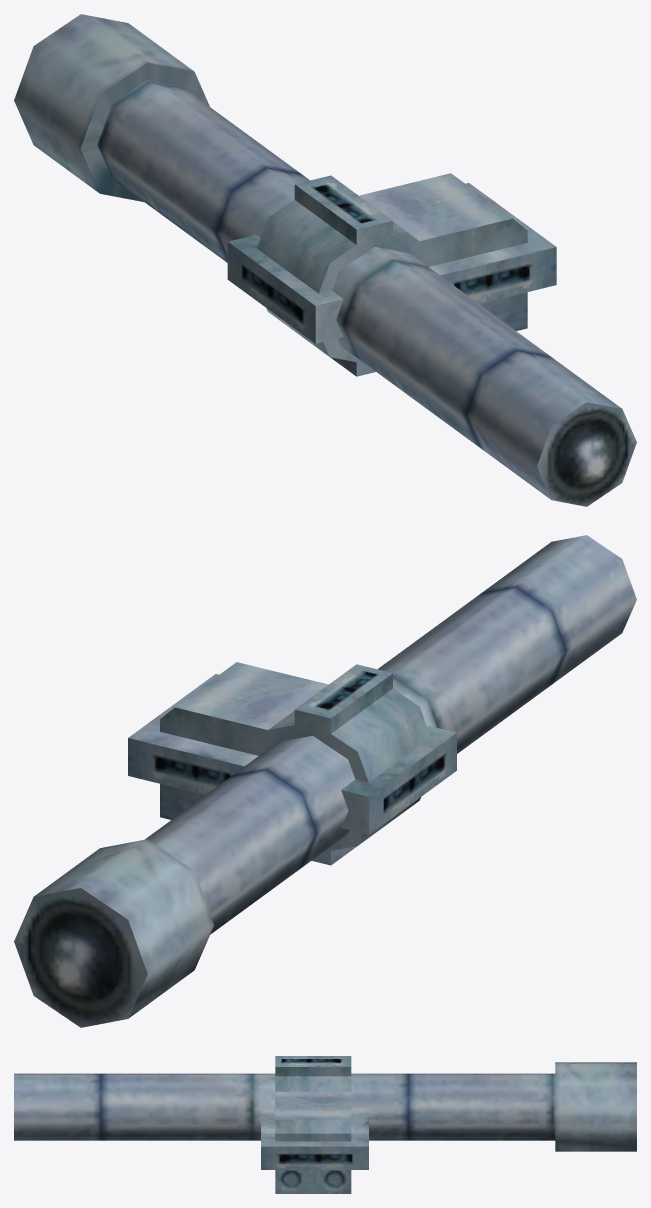
The model's file is wp_scope_de10_l0.fbx.
3 renders of one model, top to bottom at view 1: azimuth 30°, elevation 25°; view 2: azimuth 150°, elevation 25°; view 3: azimuth 270°, elevation 25°, orthographic. The views are drawn at different scales.
Visible parts, largest first — view 1: mesh_node; view 2: mesh_node; view 3: mesh_node.
Boxes of the visible parts, box(x1,y1,x2,y2) form: mesh_node: box(14, 14, 636, 506); mesh_node: box(14, 535, 636, 1027); mesh_node: box(14, 1056, 636, 1193).
Size of the model in its own units: 0.0537 by 0.0313 by 0.1952.
1 material, 1 textured.
